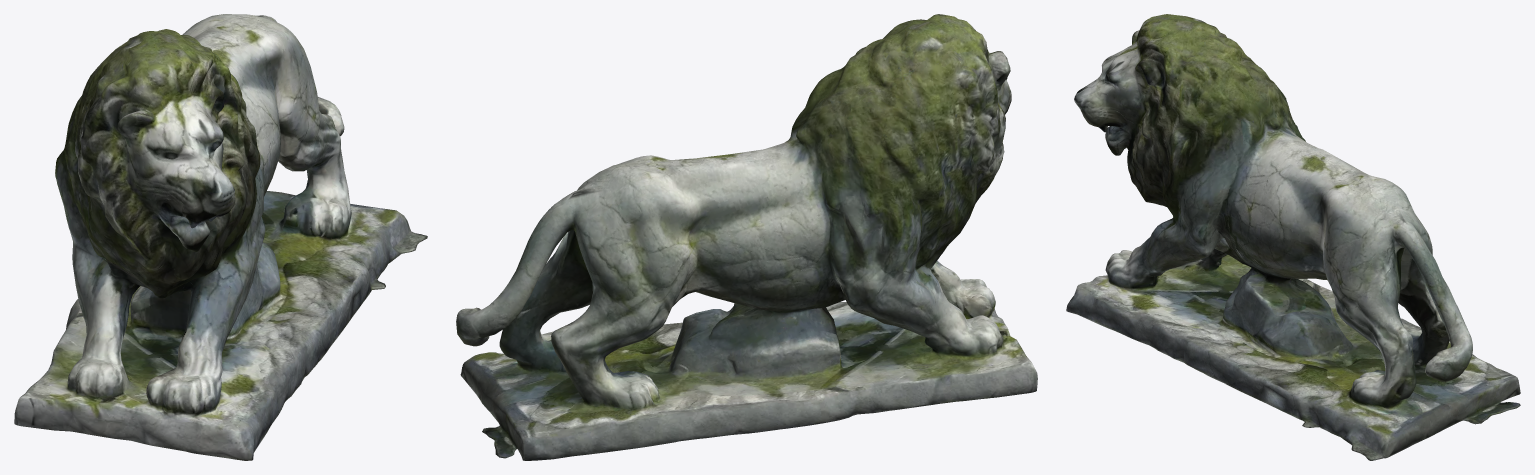
Rendered from bq_lion.mid.glb.
3 renders of one model, left to right at view 1: azimuth 30°, elevation 25°; view 2: azimuth 150°, elevation 25°; view 3: azimuth 270°, elevation 25°, orthographic. The views are drawn at different scales.
Bounding box in the file's own units: 2.01 × 1.41 × 1.97.
1 material, 1 textured.
